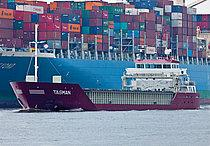Ship: (8, 55, 204, 114)
